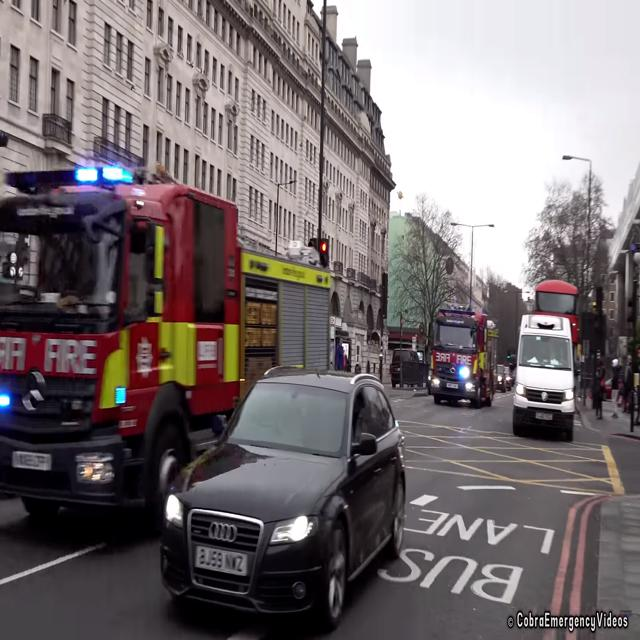emergency-vehicles: (0, 154, 356, 560), (422, 303, 503, 418)
